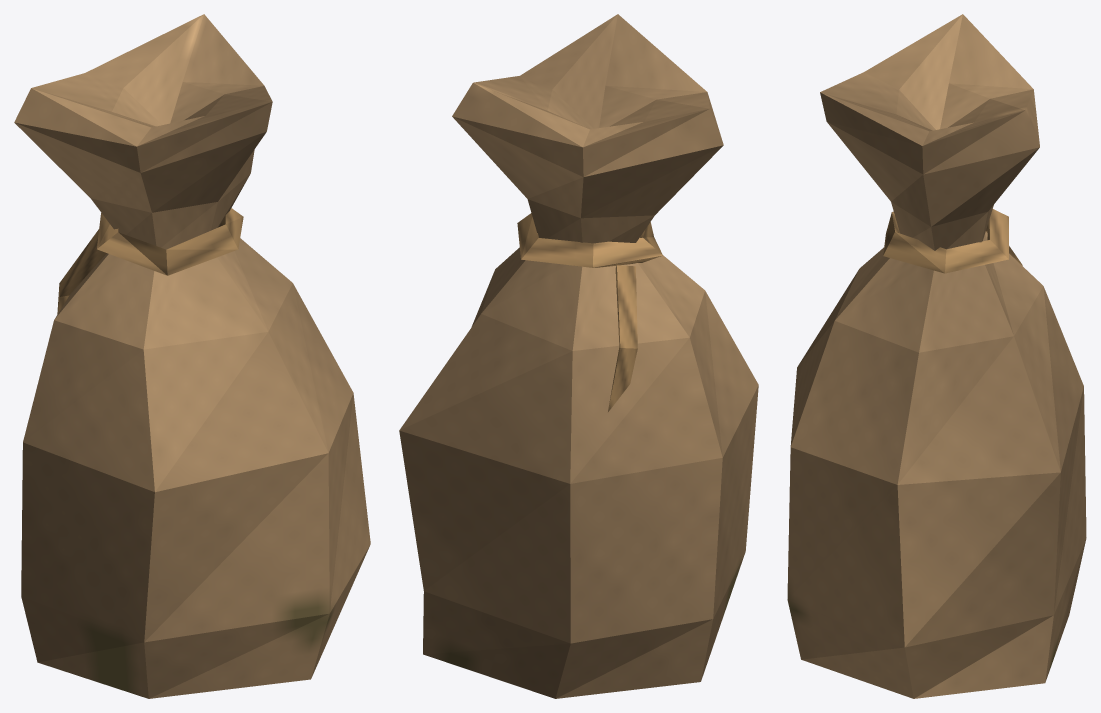
The model's file is SM_PR11_SackSmall.fbx.
3 views of the same model, side by side, from view 1: azimuth 30°, elevation 25°; view 2: azimuth 150°, elevation 25°; view 3: azimuth 270°, elevation 25° (orthographic). The views are drawn at different scales.
Parts seen in each view (by area): view 1: PR11_Sack; view 2: PR11_Sack; view 3: PR11_Sack.
Part boxes in pixels (x1,y1,x2,y2): PR11_Sack: [14, 14, 370, 698]; PR11_Sack: [399, 14, 758, 698]; PR11_Sack: [787, 14, 1086, 698].
Size of the model in its own units: 0.299 by 0.508 by 0.2484.
